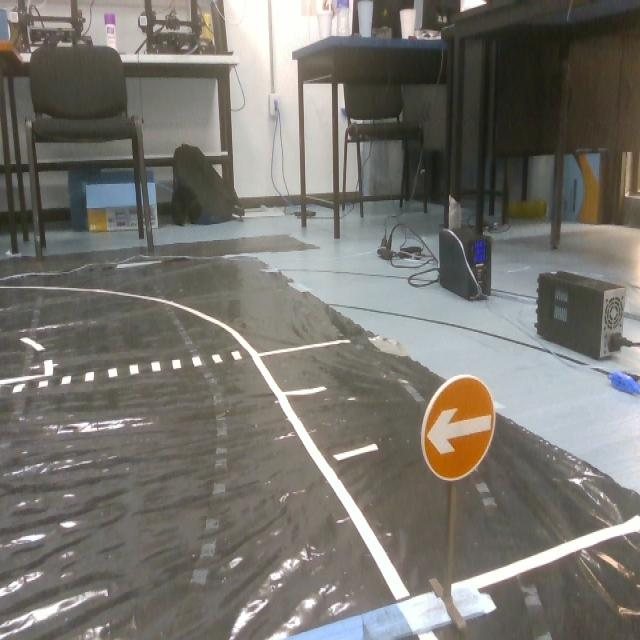forward: (414, 372, 502, 485)
